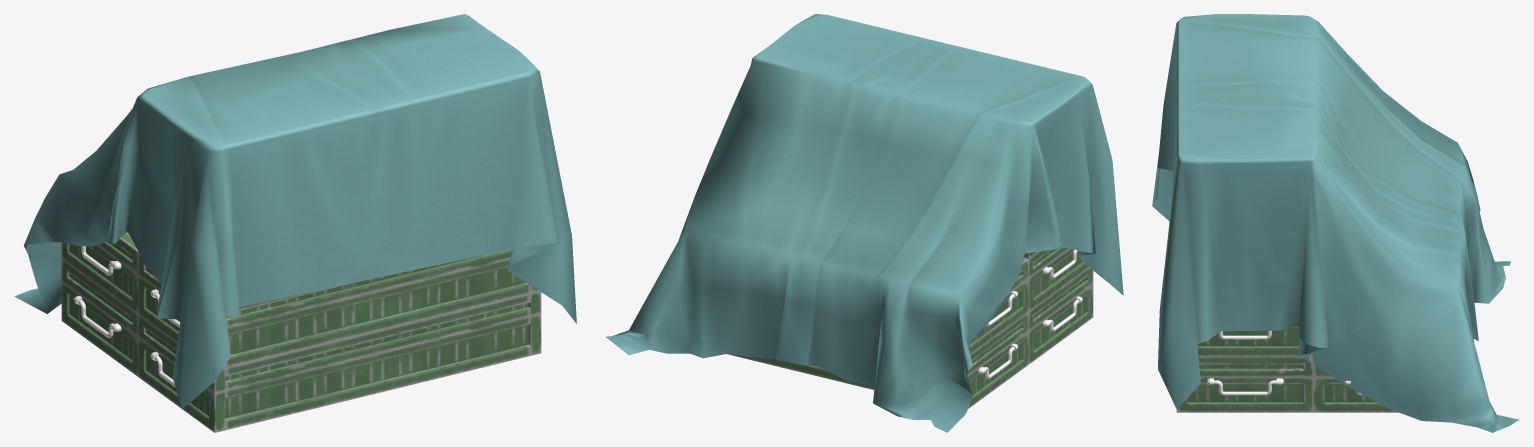
The model's file is Pfb_Box_GRP__10.fbx.
3 views of the same model, side by side, from view 1: azimuth 30°, elevation 25°; view 2: azimuth 150°, elevation 25°; view 3: azimuth 270°, elevation 25° (orthographic). The views are drawn at different scales.
Visible parts, largest first — view 1: MAT_Canvas_02_Blue, Mat_Lootbox_01; view 2: MAT_Canvas_02_Blue, Mat_Lootbox_01; view 3: MAT_Canvas_02_Blue, Mat_Lootbox_01.
Part boxes in pixels (x1,y1,x2,y2): MAT_Canvas_02_Blue: (14,14,576,409); Mat_Lootbox_01: (61,231,541,432); MAT_Canvas_02_Blue: (605,14,1123,432); Mat_Lootbox_01: (727,248,1093,408); MAT_Canvas_02_Blue: (1152,14,1519,432); Mat_Lootbox_01: (1176,326,1398,412).
Size of the model in its own units: 2.39 by 1.52 by 1.98.
Materials: 2 (2 with a texture image).
